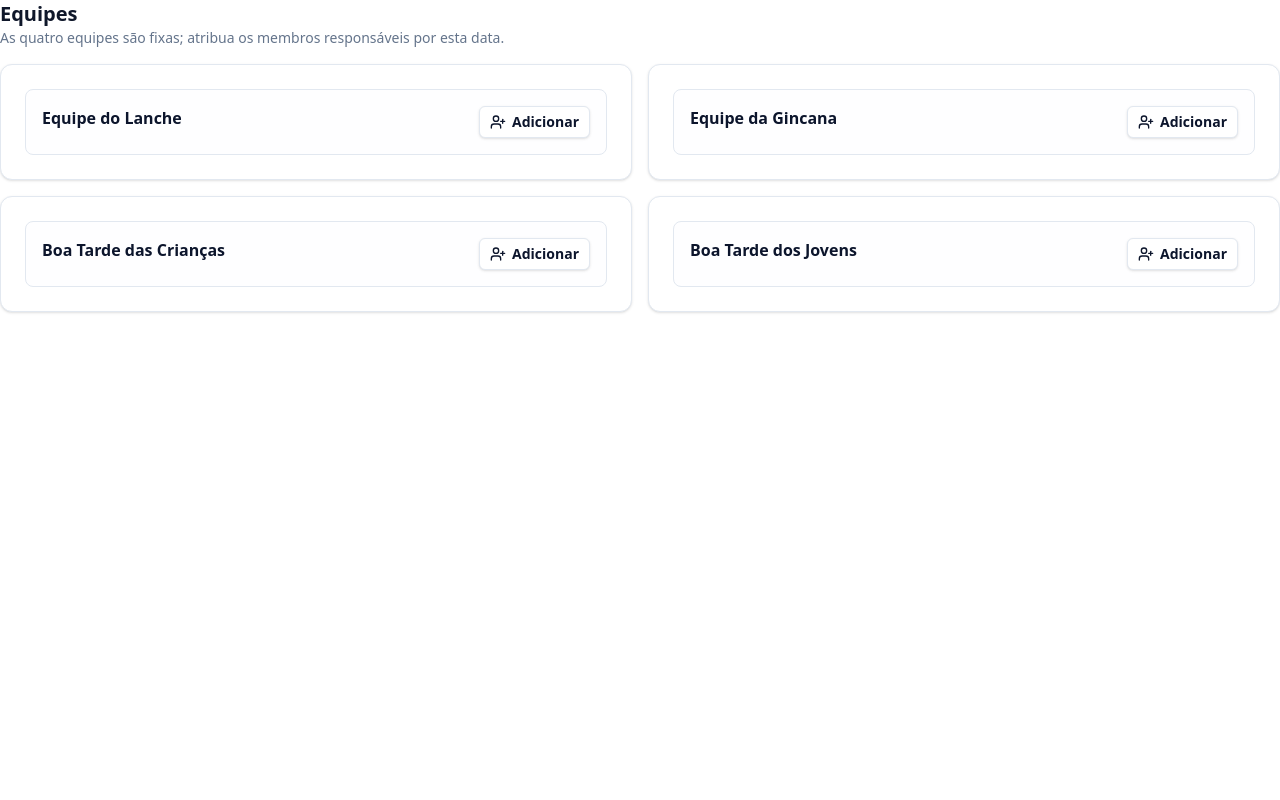
Test case: OratorioTeamsSection › fecha o seletor e interrompe a consulta quando a capacidade muda
Click the button with aria-label "Adicionar membro à Equipe do Lanche".
click(535, 122)  # box [479,106,590,138]
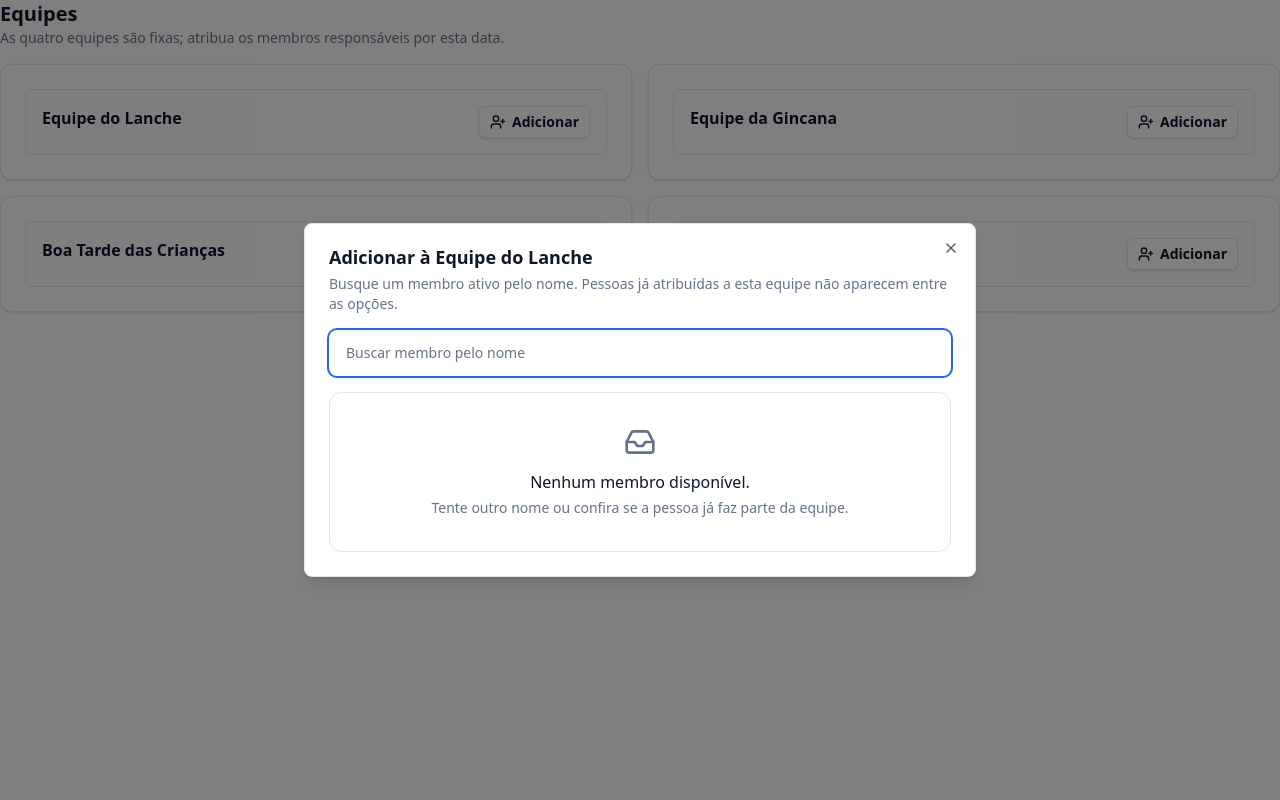
Expected: the dialog "Adicionar à Equipe do Lanche" is shown, [304,223,976,577]
